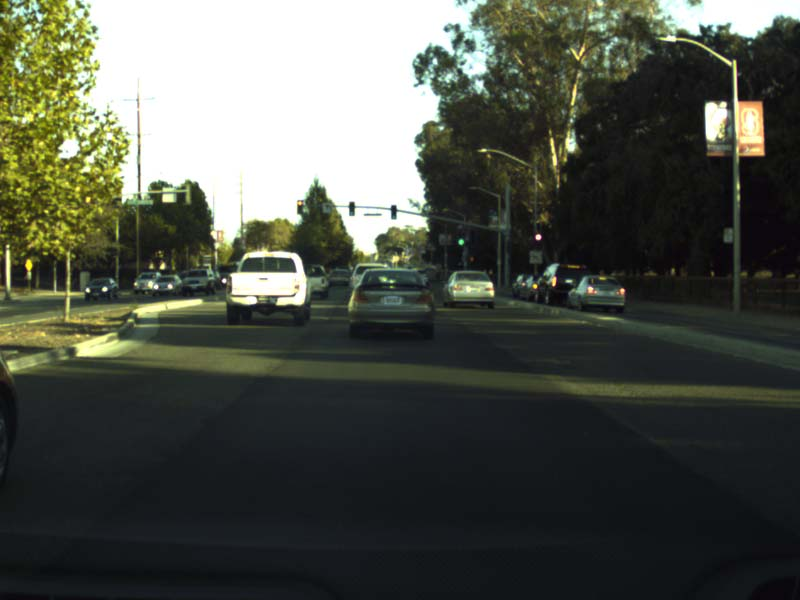Green: (457, 226, 464, 246), (390, 205, 396, 219), (348, 201, 354, 215)
Red: (532, 233, 542, 250), (296, 200, 302, 213)
